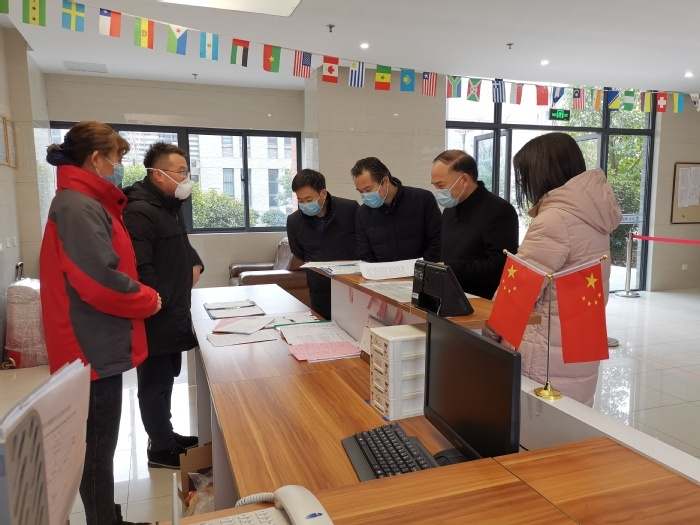correctlyWear: (514, 147, 552, 204), (429, 168, 471, 209), (90, 142, 126, 188), (153, 159, 193, 200), (355, 172, 390, 207), (296, 186, 328, 216)
